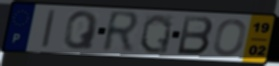B: (175, 14, 216, 57)
I: (40, 8, 58, 50)
O: (211, 17, 248, 57)
Q: (62, 10, 101, 51), (138, 13, 175, 55)
R: (100, 9, 142, 55)
